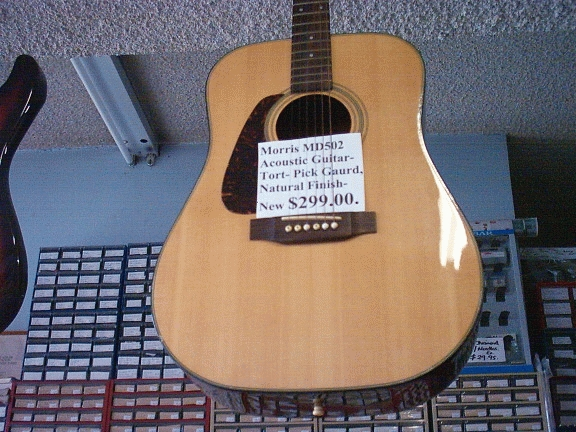guitar: (150, 1, 487, 416)
